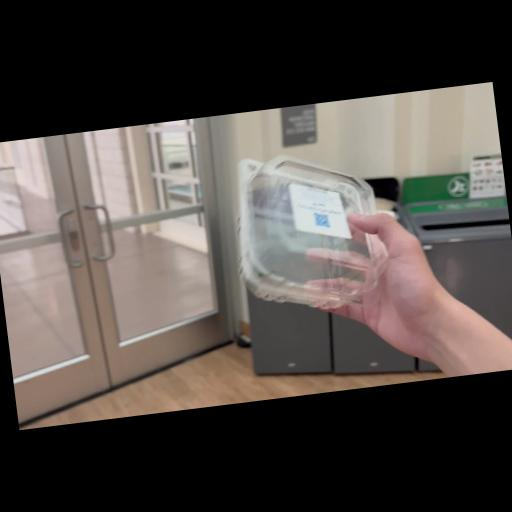small_plastic_container: (226, 142, 394, 318)
